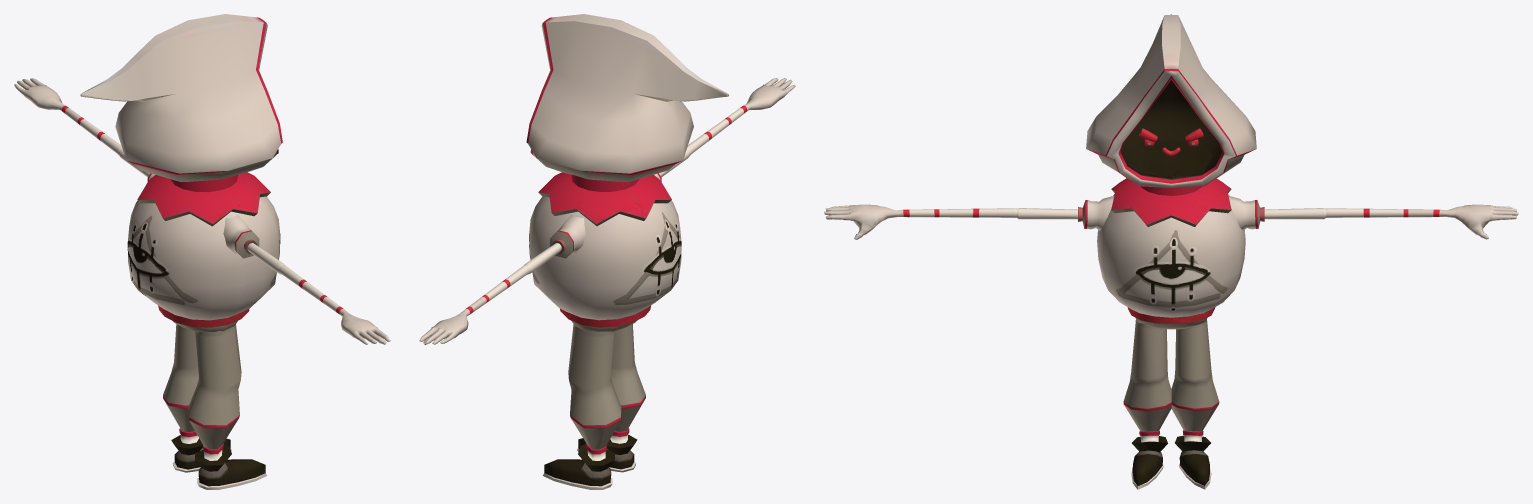
Rendered from olho_mago.glb.
The picture shows the model from 3 angles, left to right: view 1: azimuth 30°, elevation 25°; view 2: azimuth 150°, elevation 25°; view 3: azimuth 270°, elevation 25°; orthographic projection. The views are drawn at different scales.
Visible parts, largest first — view 1: _100Avatars_113_EyeWizard; view 2: _100Avatars_113_EyeWizard; view 3: _100Avatars_113_EyeWizard.
Boxes of the visible parts, x1,y1,x2,y2 form: _100Avatars_113_EyeWizard: (14,14,390,489); _100Avatars_113_EyeWizard: (419,14,795,489); _100Avatars_113_EyeWizard: (824,14,1518,489).
Size of the model in its own units: 2.71 by 6.16 by 8.85.
1 material, 1 textured.
